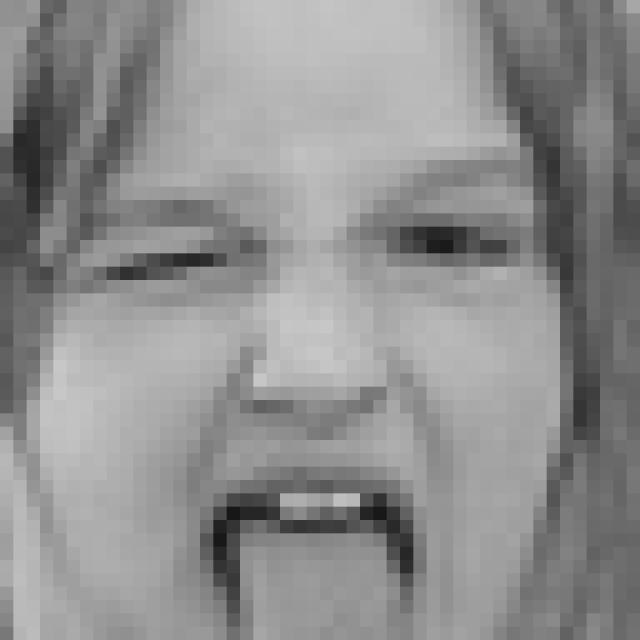disgust: (64, 151, 552, 640)
